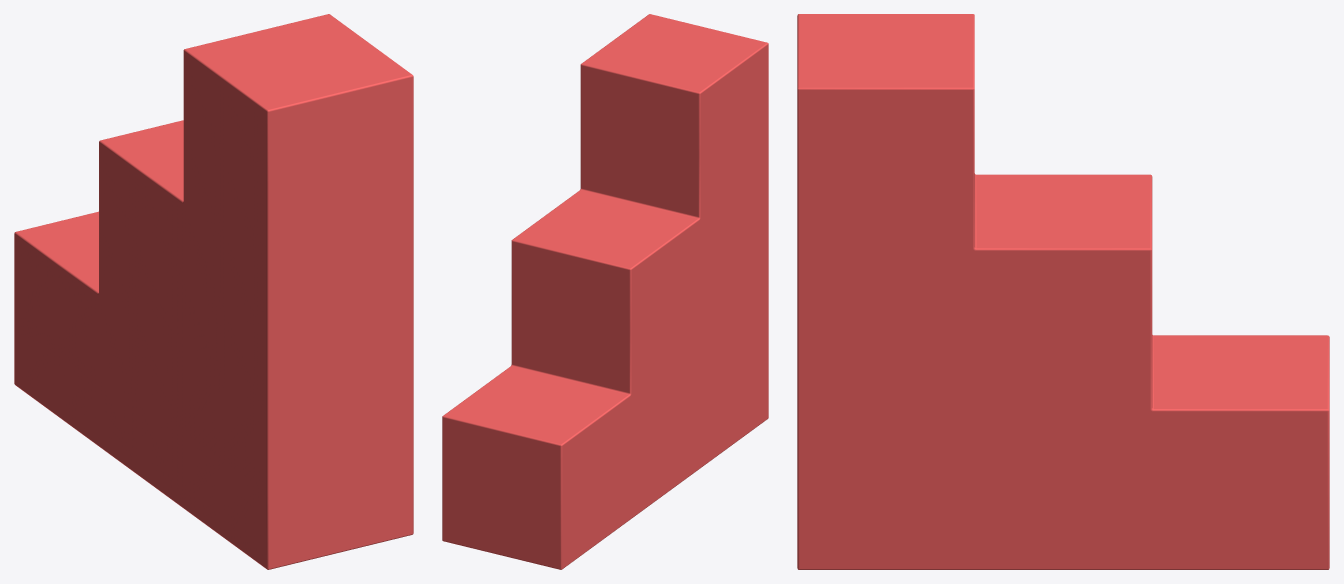
The model's file is LoopDreams_VR_Assets_R1_RedCorner.fbx.
3 renders of one model, left to right at view 1: azimuth 30°, elevation 25°; view 2: azimuth 150°, elevation 25°; view 3: azimuth 270°, elevation 25°, orthographic. The views are drawn at different scales.
Visible parts, largest first — view 1: Red_Corner; view 2: Red_Corner; view 3: Red_Corner.
Part boxes in pixels (x1,y1,x2,y2): Red_Corner: (14,14,413,569); Red_Corner: (442,14,768,569); Red_Corner: (797,14,1329,569).
Bounding box in the file's own units: 100 × 300 × 300.
